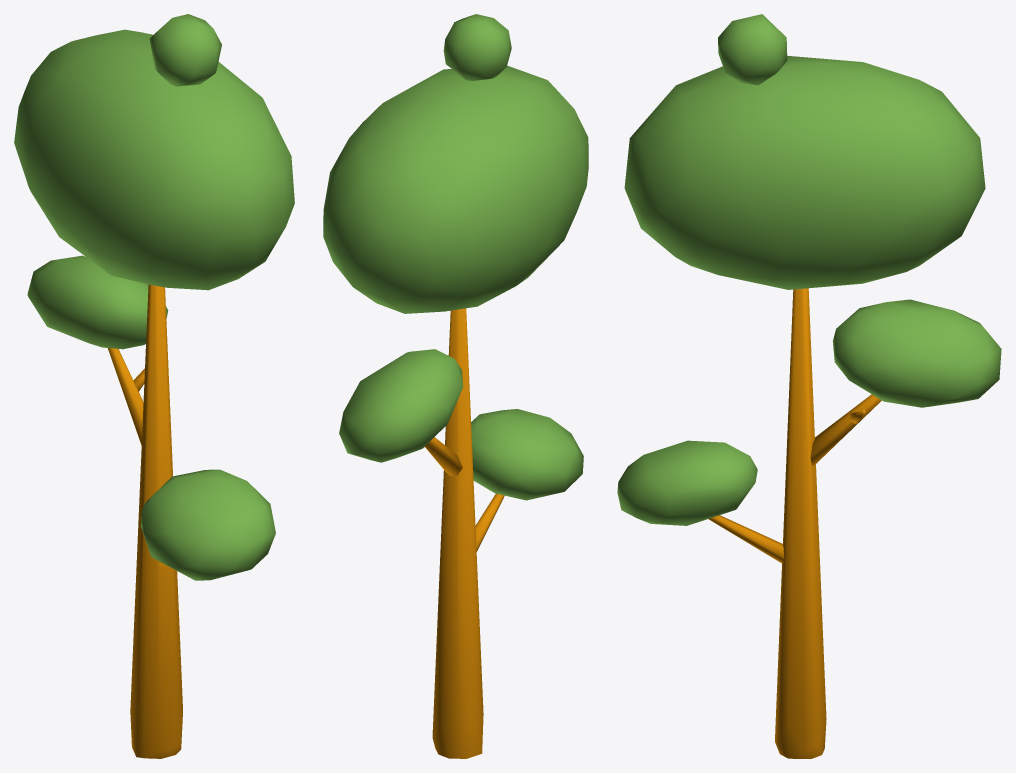
The model's file is Tree_1.fbx.
3 views of the same model, side by side, from view 1: azimuth 30°, elevation 25°; view 2: azimuth 150°, elevation 25°; view 3: azimuth 270°, elevation 25° (orthographic). The views are drawn at different scales.
Visible parts, largest first — view 1: Tree_1; view 2: Tree_1; view 3: Tree_1.
Boxes of the visible parts, x1=… form: Tree_1: x1=14, y1=14, x2=294, y2=758; Tree_1: x1=323, y1=14, x2=588, y2=758; Tree_1: x1=617, y1=14, x2=1001, y2=758.
Bounding box in the file's own units: 310 × 1093 × 518.
